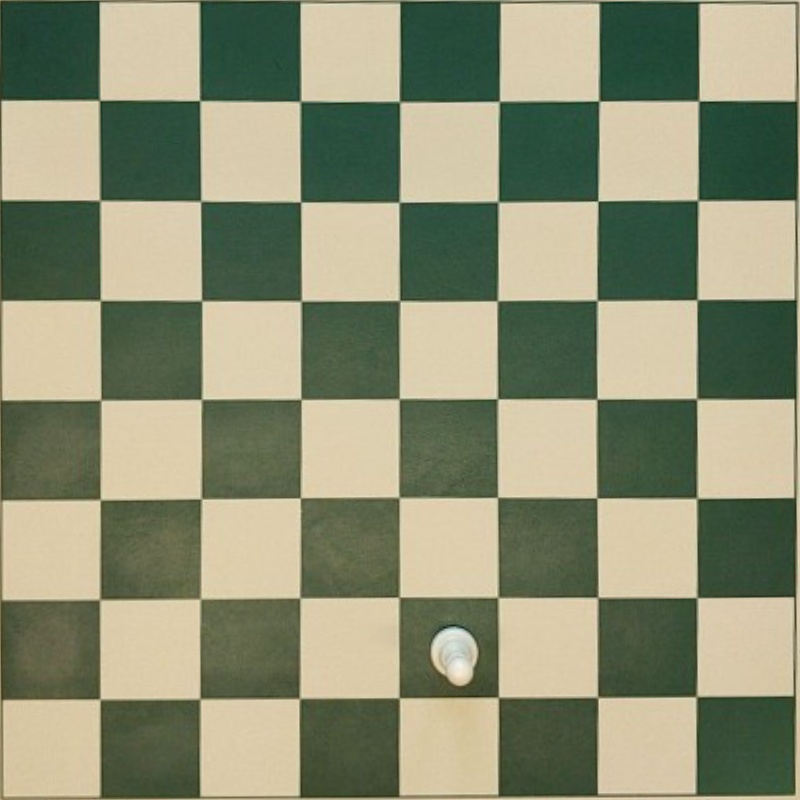white-pawn: (429, 625, 479, 687)
